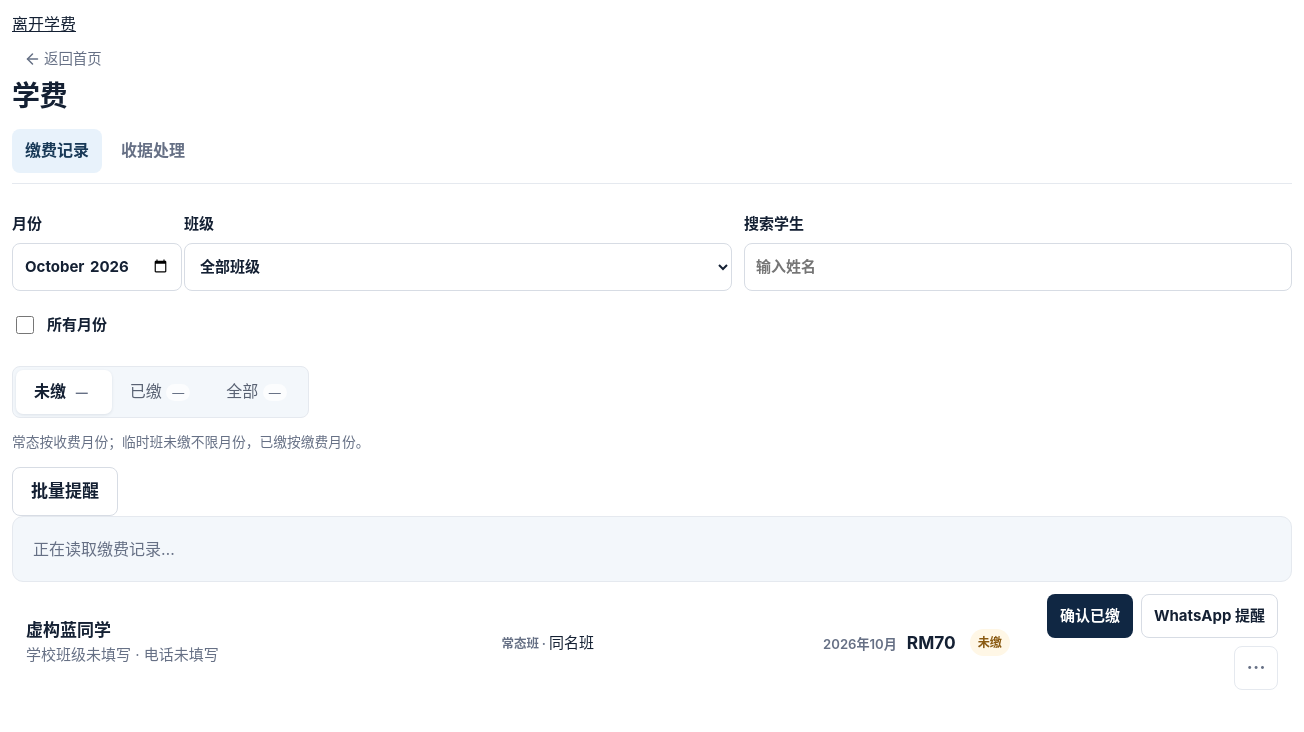
late responses cannot show the prior class in a new temporary-only range
The width and height of the screenshot is (1304, 732).
Expected: the text "虚构蓝同学" is shown, [26,620,111,640]
Step 1. Select "已结束班（已结束）" in the dropdown labelled "班级" → (458, 267), box [184,243,732,291]
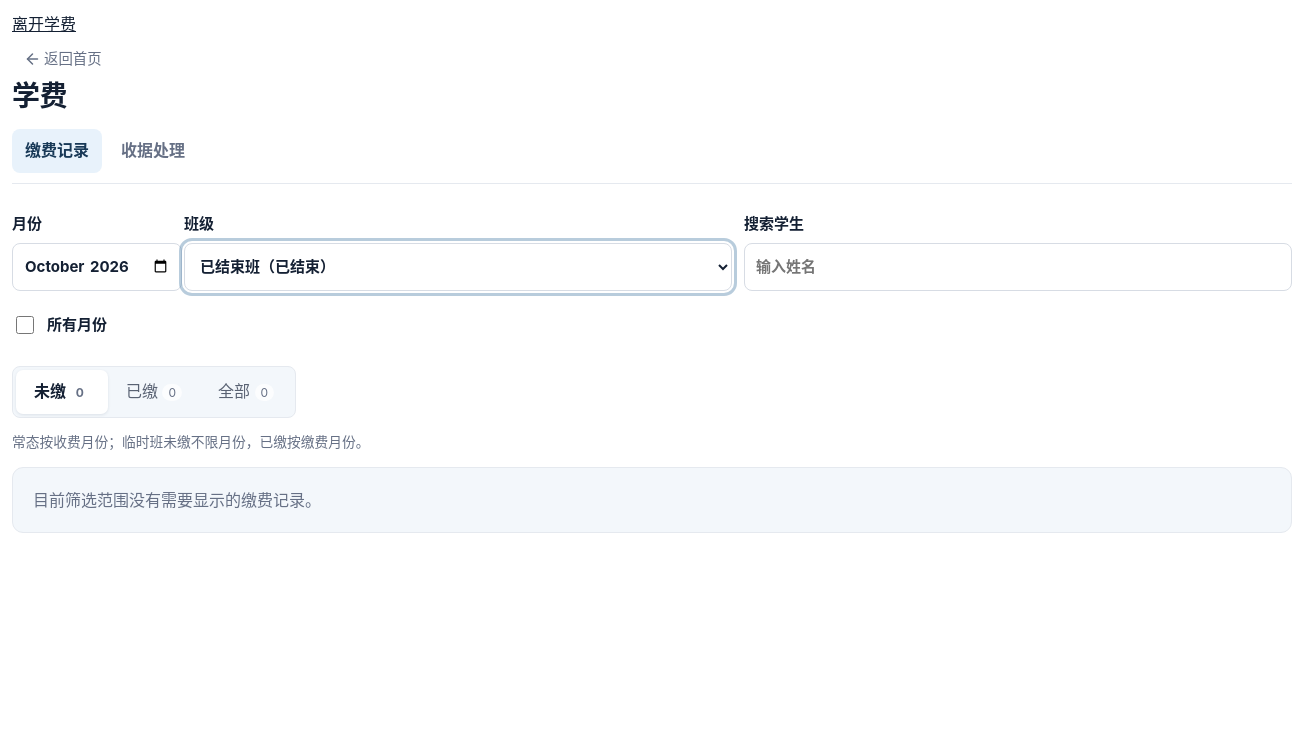
Now the text "目前筛选范围没有需要显示的缴费记录。" is shown, box [12,467,1292,533]
